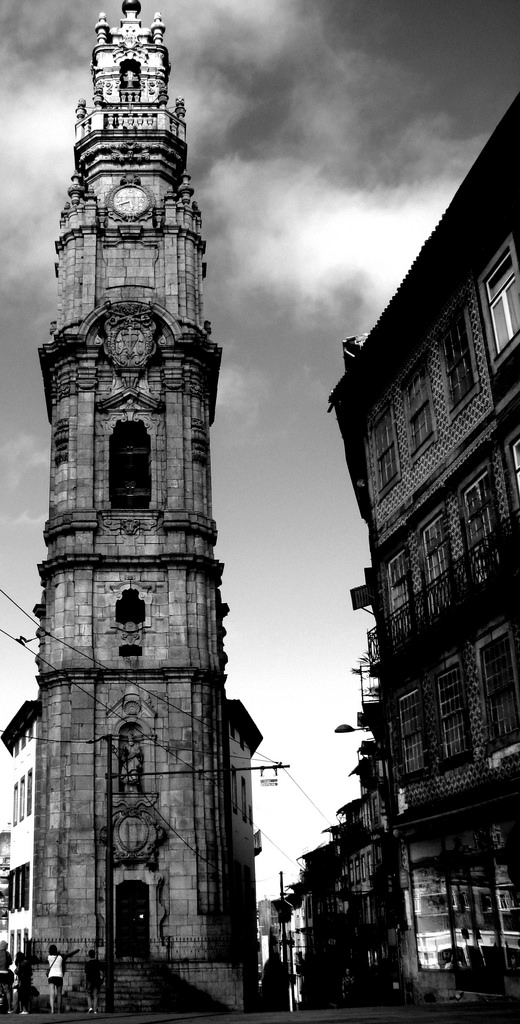clerigos: (32, 0, 241, 958)
